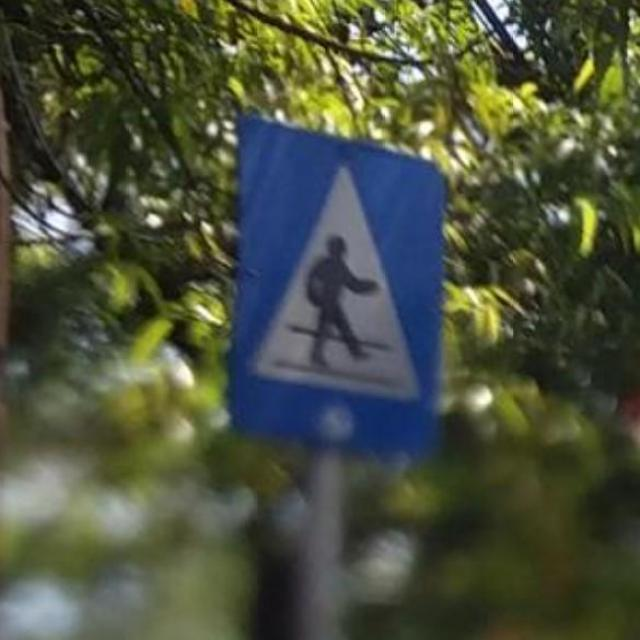traffic sign: (225, 113, 447, 452)
